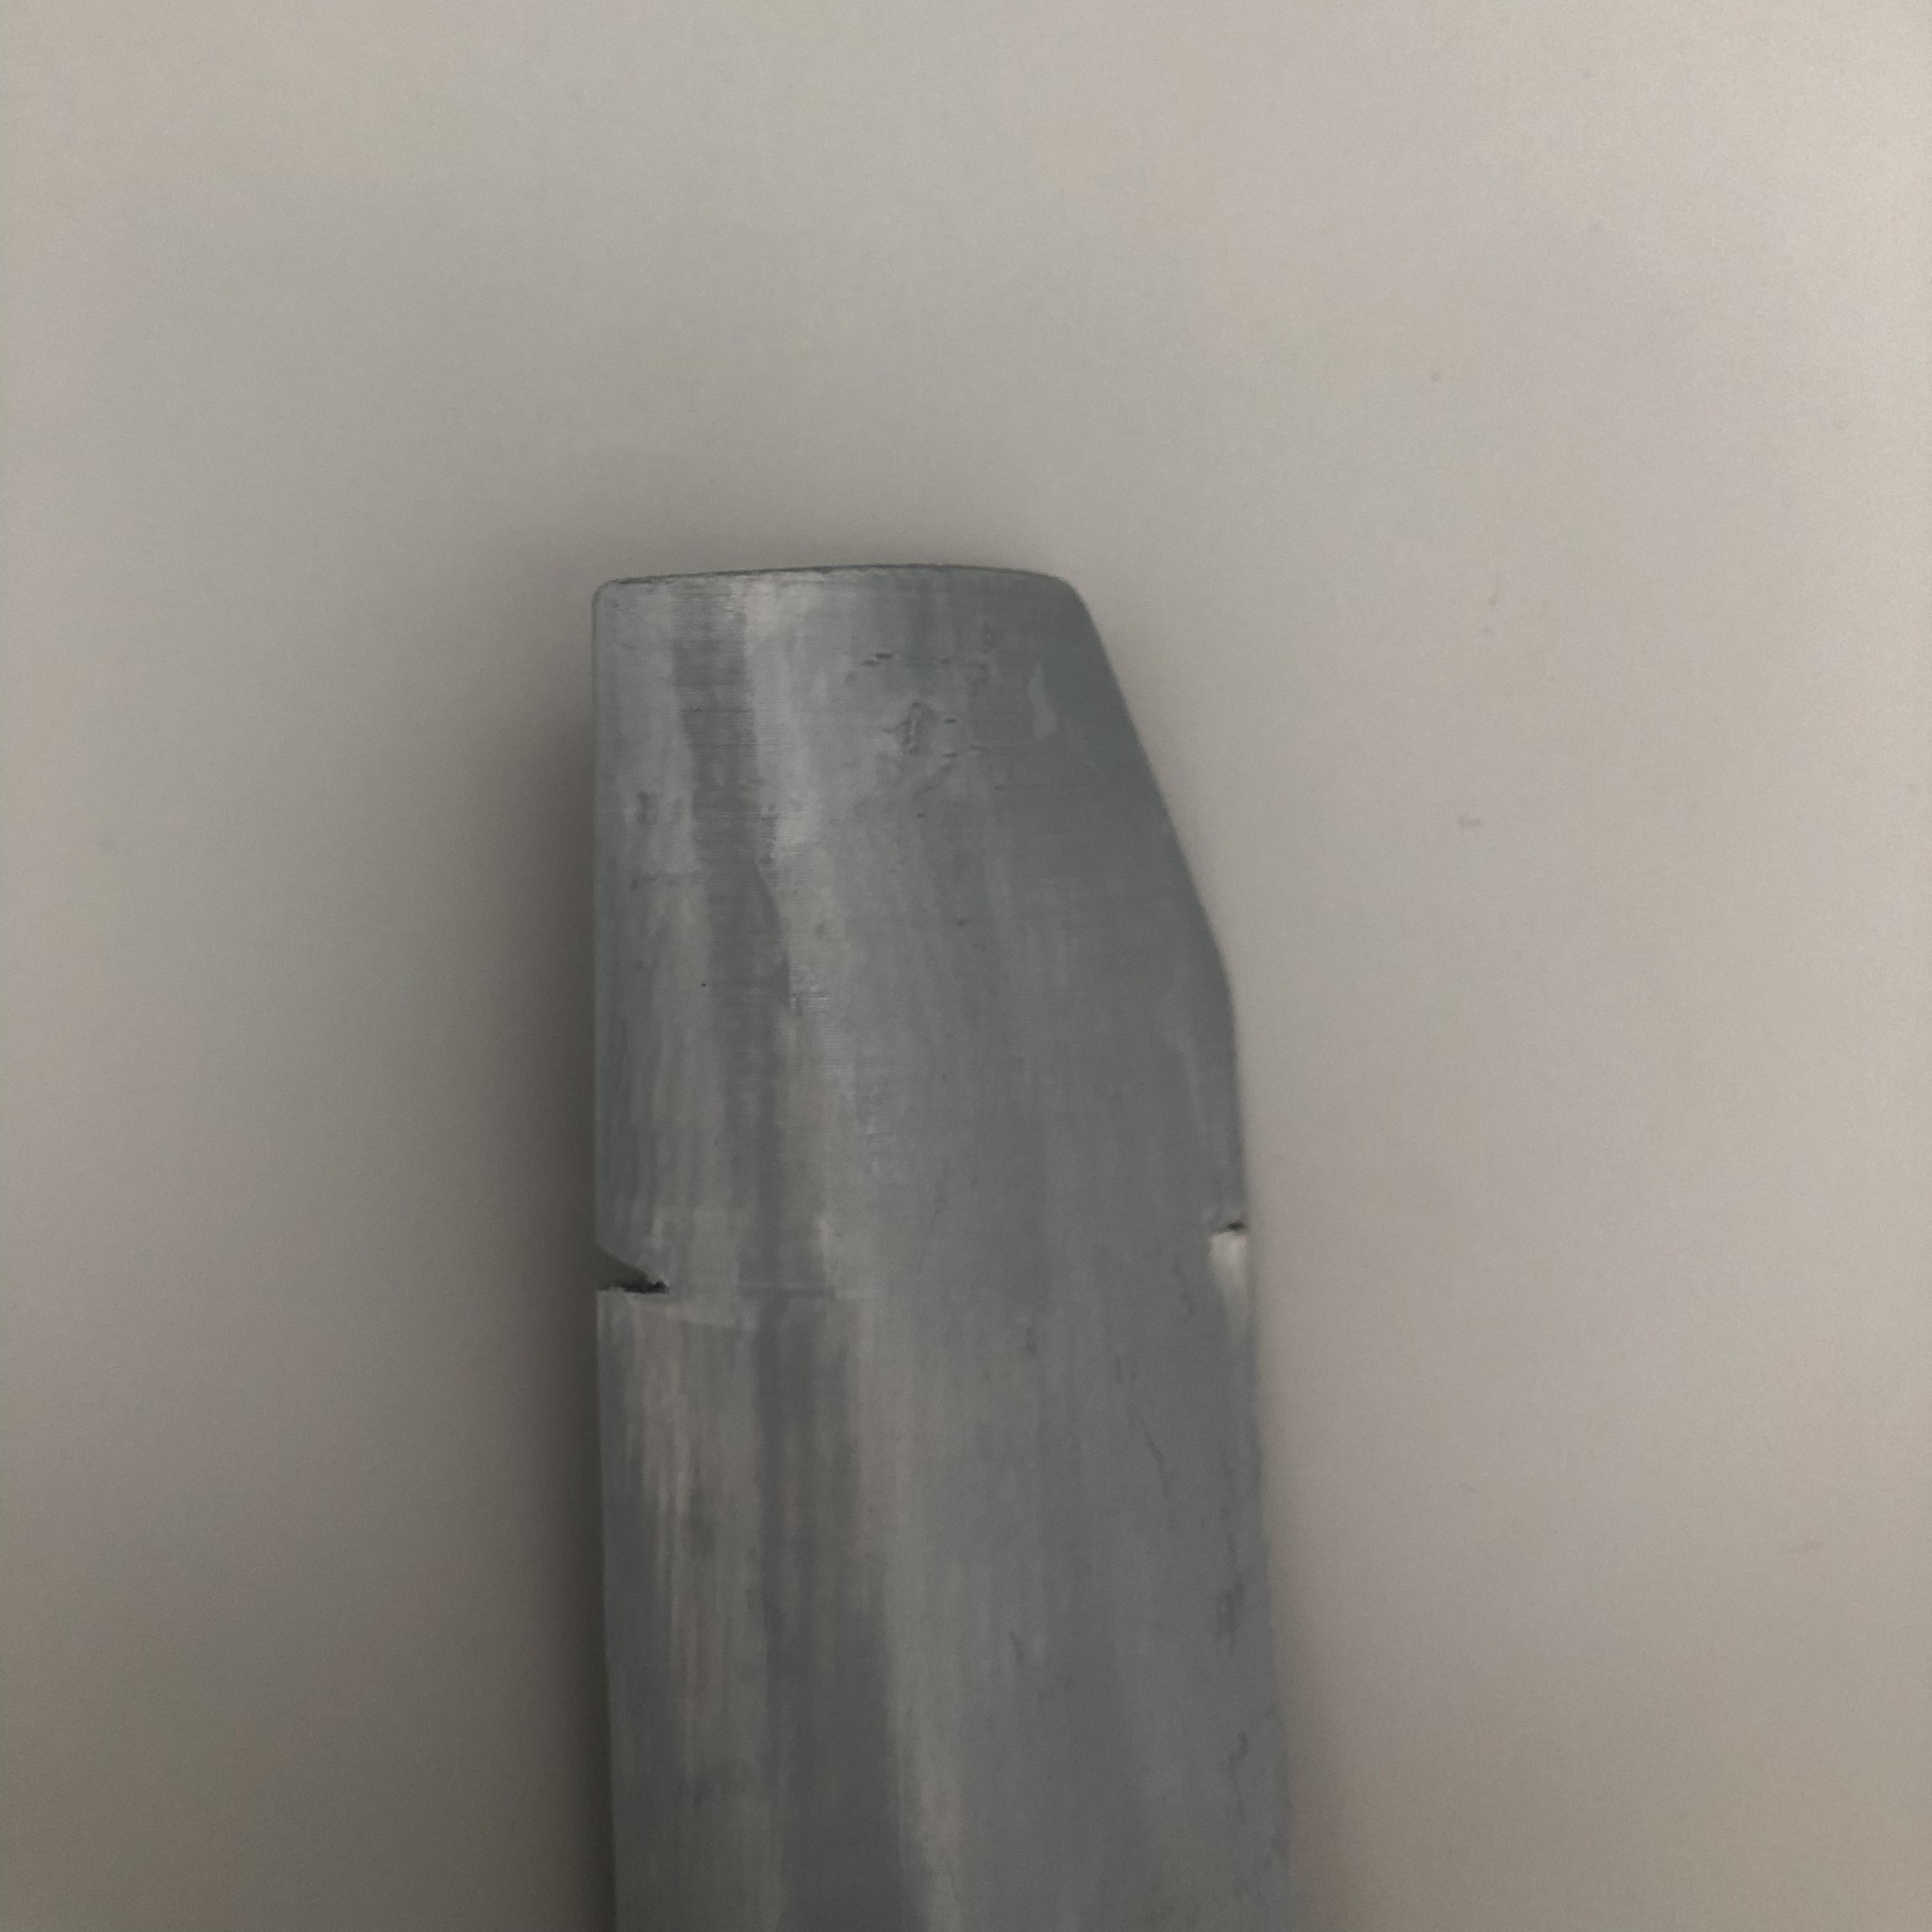groove: (603, 1233, 667, 1300), (1208, 1207, 1247, 1253)
